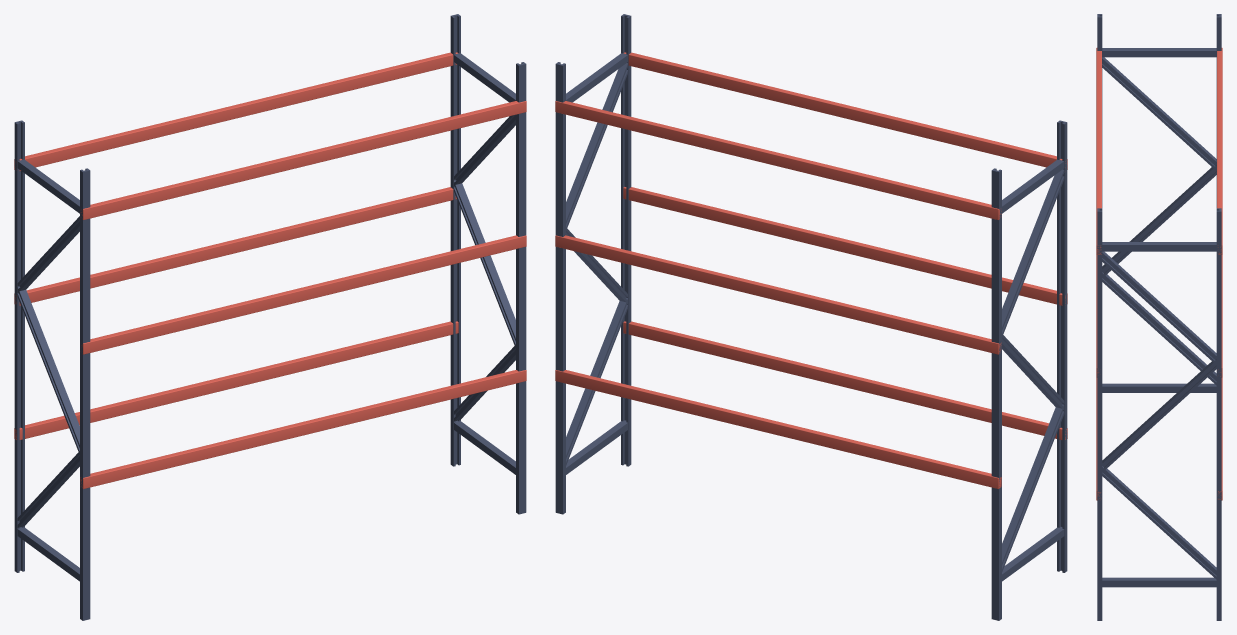
3 renders of one model, left to right at view 1: azimuth 30°, elevation 25°; view 2: azimuth 150°, elevation 25°; view 3: azimuth 270°, elevation 25°, orthographic. The views are drawn at different scales.
Visible parts, largest first — view 1: rack; view 2: rack; view 3: rack.
Boxes of the visible parts, x1=… form: rack: x1=14, y1=14, x2=526, y2=620; rack: x1=555, y1=14, x2=1067, y2=620; rack: x1=1096, y1=14, x2=1222, y2=620.
Bounding box in the file's own units: 3 × 2.9 × 0.809.
